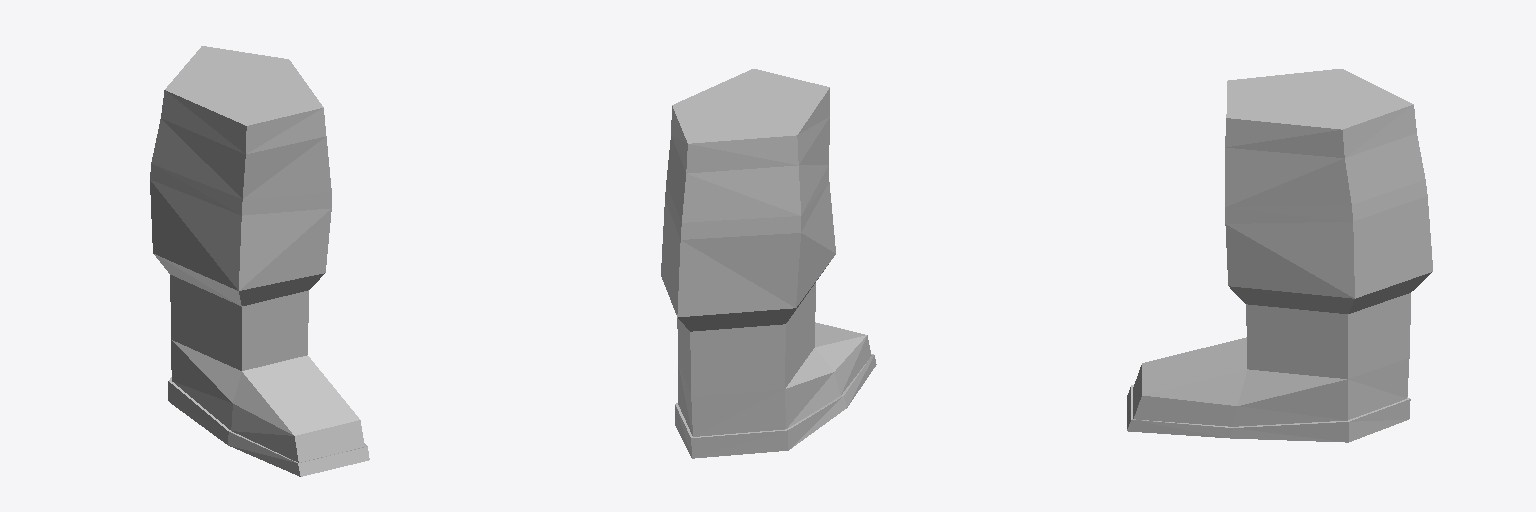
The model's file is astronauta_reloded_rightlegbot.obj.
The picture shows the model from 3 angles: view 1: azimuth 30°, elevation 25°; view 2: azimuth 150°, elevation 25°; view 3: azimuth 270°, elevation 25°; orthographic projection.
Visible parts, largest first — view 1: Astronauta_Cubo; view 2: Astronauta_Cubo; view 3: Astronauta_Cubo.
Boxes of the visible parts, box(x1,y1,x2,y2) form: Astronauta_Cubo: box(150, 46, 369, 476); Astronauta_Cubo: box(661, 69, 876, 458); Astronauta_Cubo: box(1127, 69, 1432, 442).
Size of the model in its own units: 0.1563 by 0.3389 by 0.298.